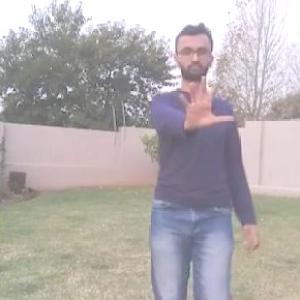follow_hand: (179, 68, 235, 128)
